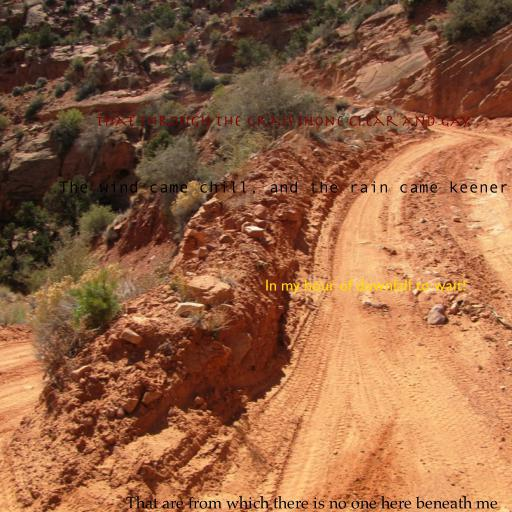Andale Mono: (59, 181, 509, 195)
Gill Sans: (264, 279, 466, 295)
Herculanum: (96, 115, 470, 128)
Palatino: (126, 495, 498, 509)
